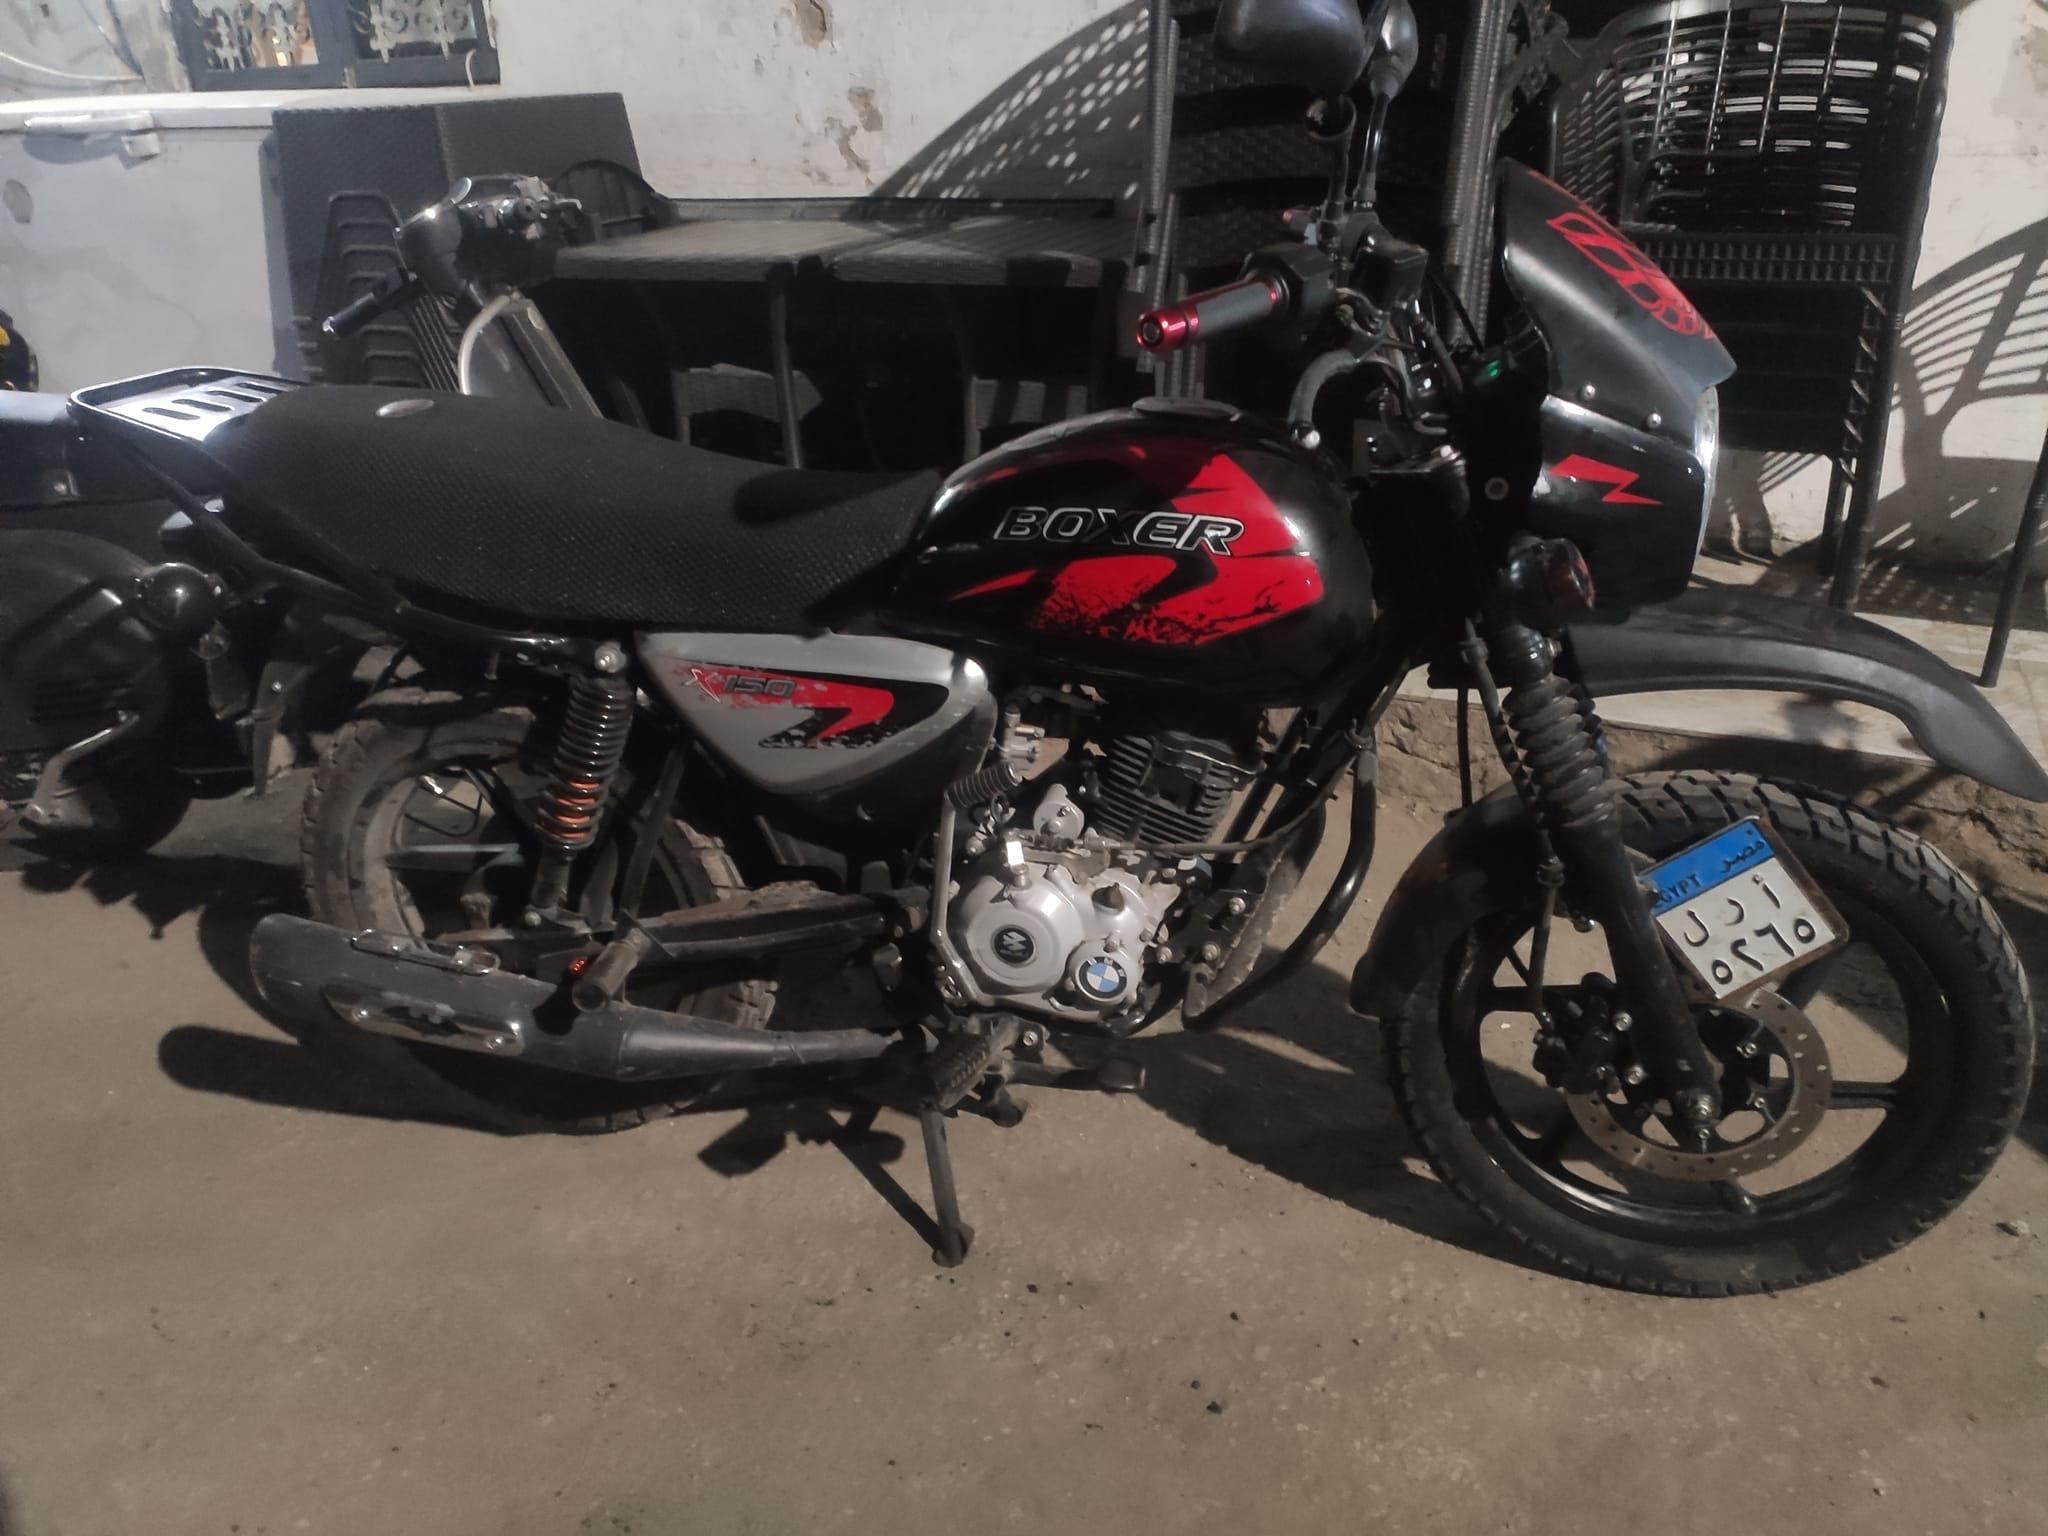License Plate: (1643, 807, 1847, 1007)
